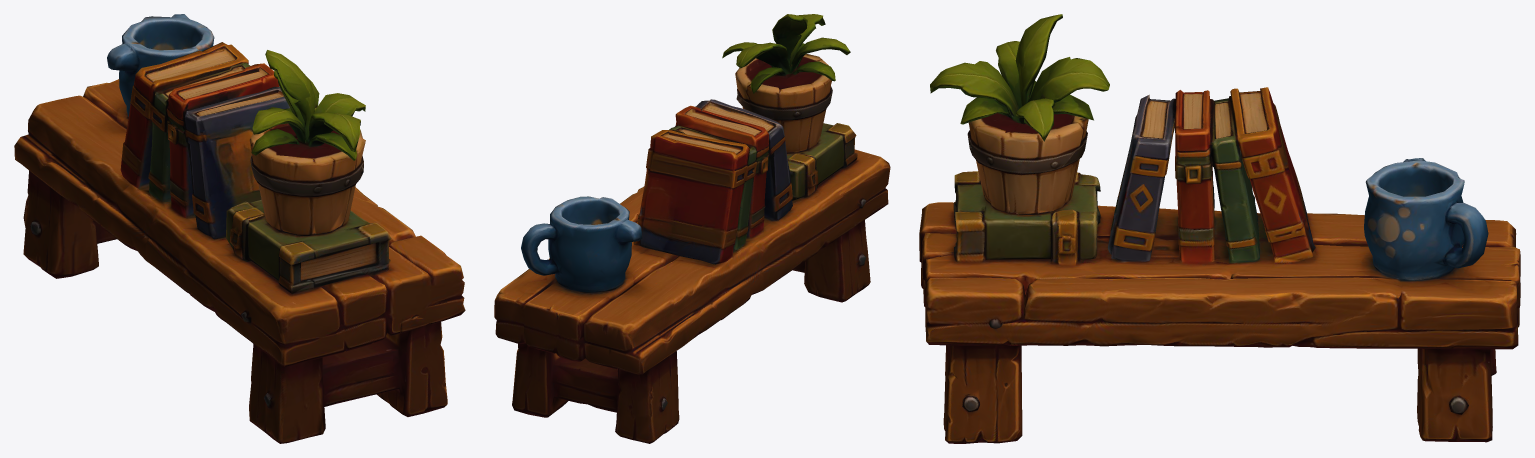
Rendered from table_books.glb.
3 renders of one model, left to right at view 1: azimuth 30°, elevation 25°; view 2: azimuth 150°, elevation 25°; view 3: azimuth 270°, elevation 25°, orthographic. The views are drawn at different scales.
Parts seen in each view (by area): view 1: tripo_node_e64ed587-b8f4-4597-97ef-2e090e838d0c; view 2: tripo_node_e64ed587-b8f4-4597-97ef-2e090e838d0c; view 3: tripo_node_e64ed587-b8f4-4597-97ef-2e090e838d0c.
Part boxes in pixels (x1=…): tripo_node_e64ed587-b8f4-4597-97ef-2e090e838d0c: x1=14, y1=14, x2=465, y2=443; tripo_node_e64ed587-b8f4-4597-97ef-2e090e838d0c: x1=494, y1=14, x2=890, y2=443; tripo_node_e64ed587-b8f4-4597-97ef-2e090e838d0c: x1=919, y1=14, x2=1520, y2=443.
Bounding box in the file's own units: 0.3893 × 0.6724 × 1.
1 material, 1 textured.
